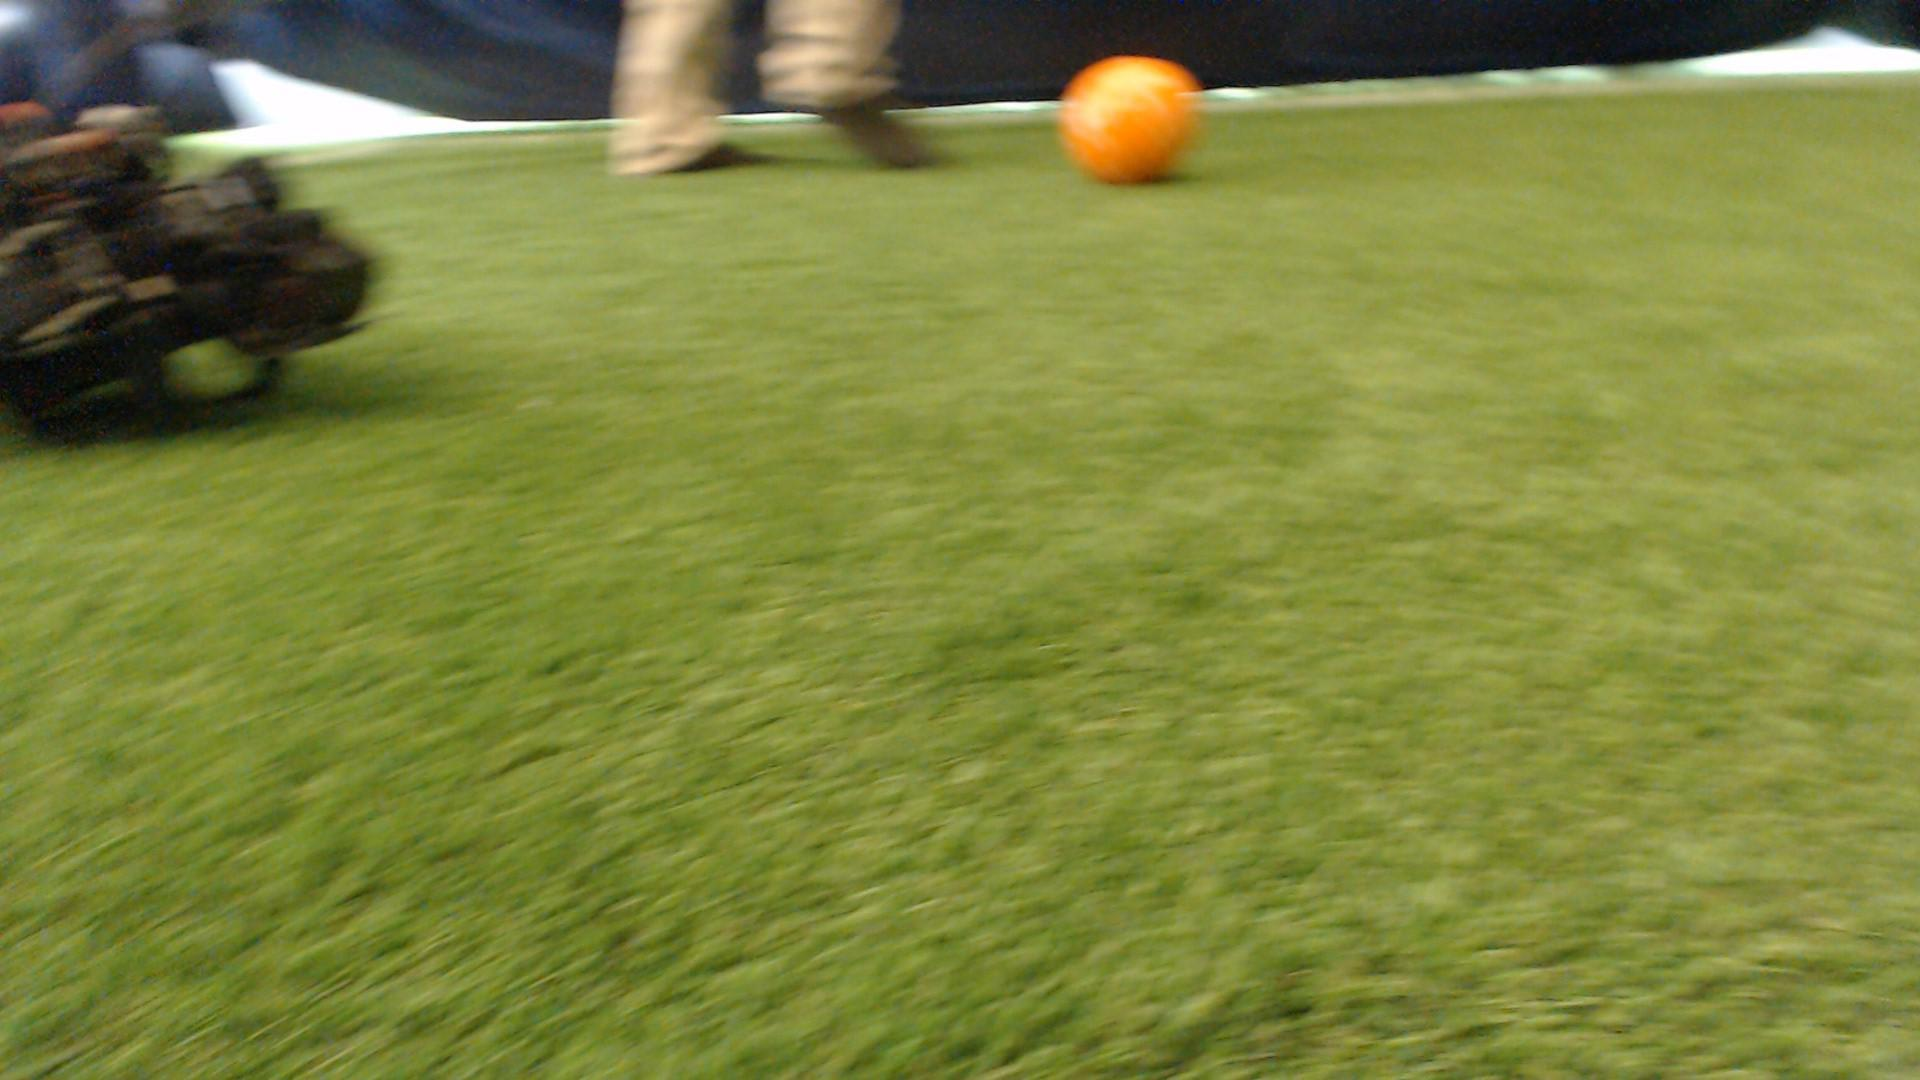bola: (1040, 42, 1226, 193)
